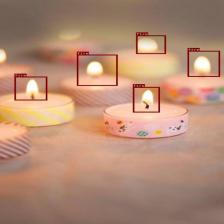fire: (76, 54, 118, 86), (187, 50, 220, 76), (14, 76, 47, 100), (133, 87, 159, 112), (136, 35, 165, 54)
